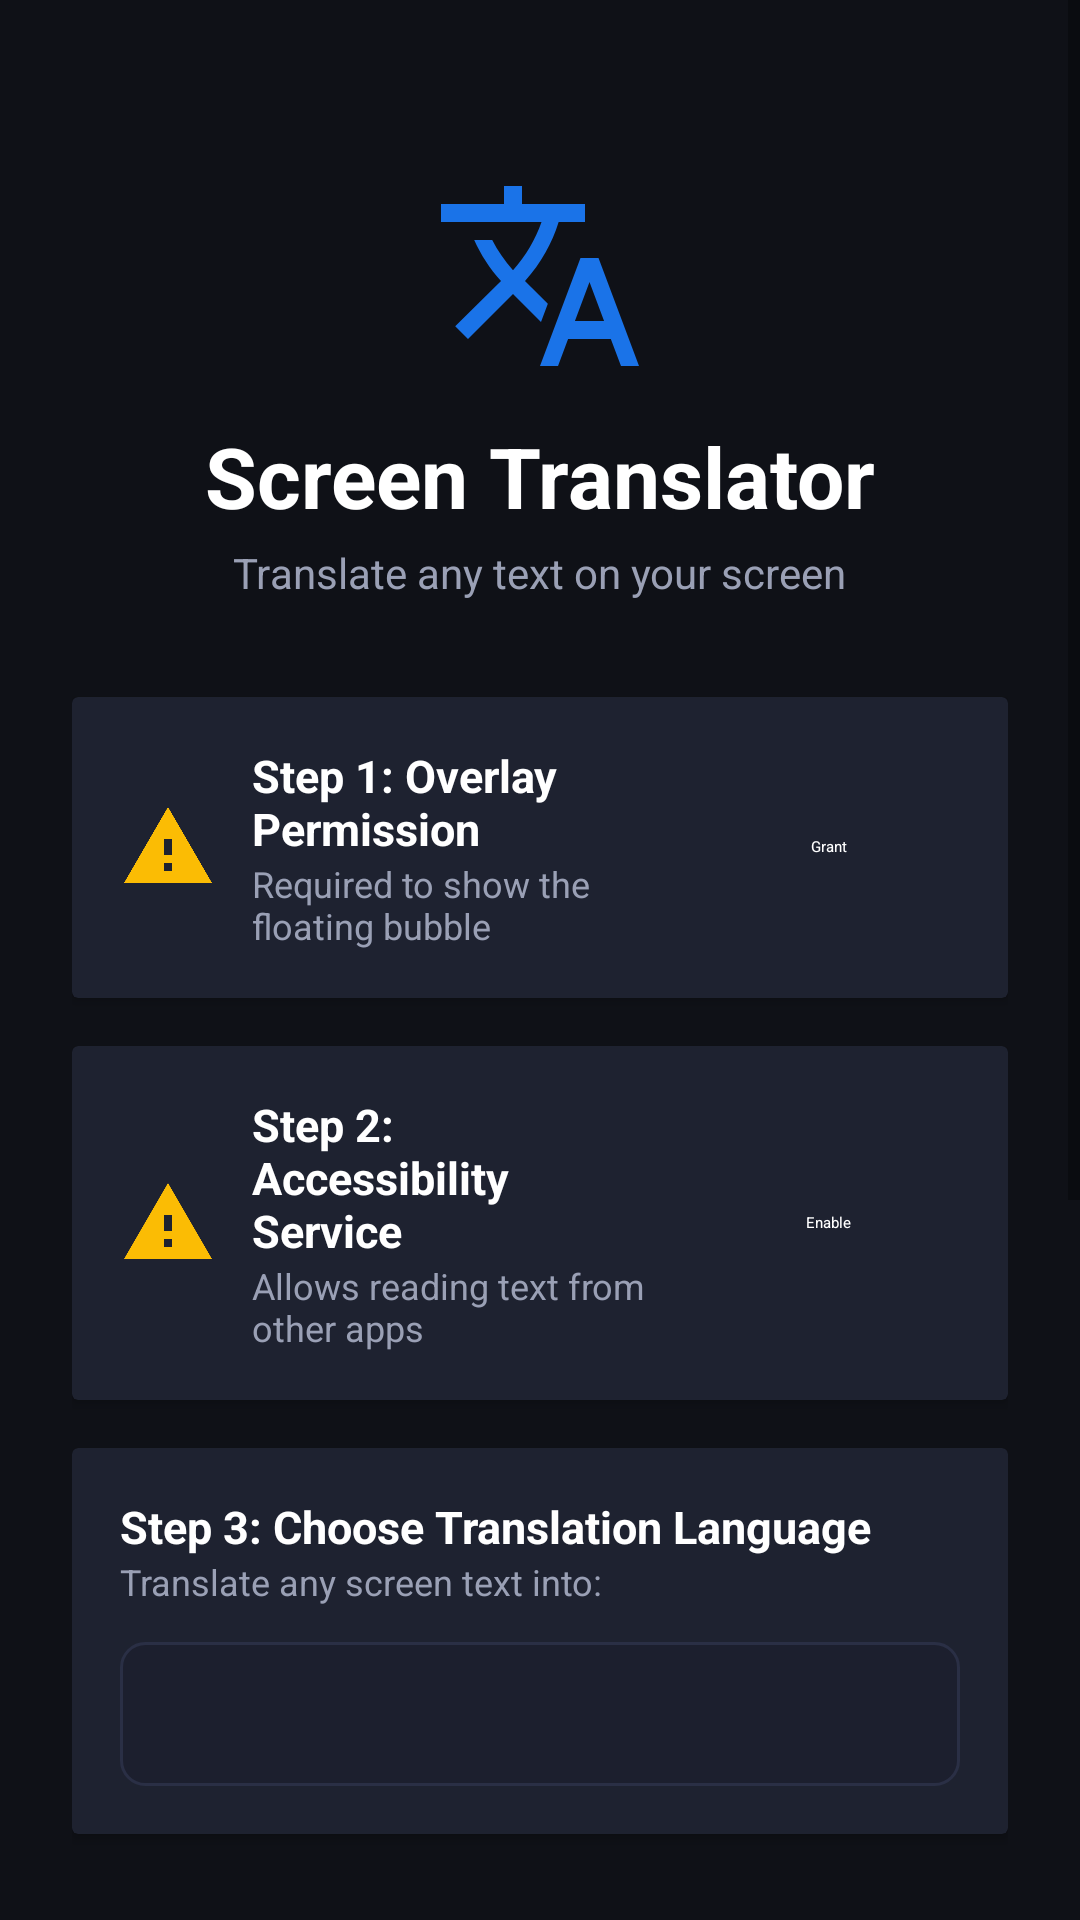

Locate icon controls on the screen. Image size 1080 × 1920, boxes as bbox=(x1, y1, x2, y2).
translate: bbox=(441, 186, 639, 366)
warning: bbox=(124, 808, 212, 883), bbox=(124, 1183, 212, 1259)
